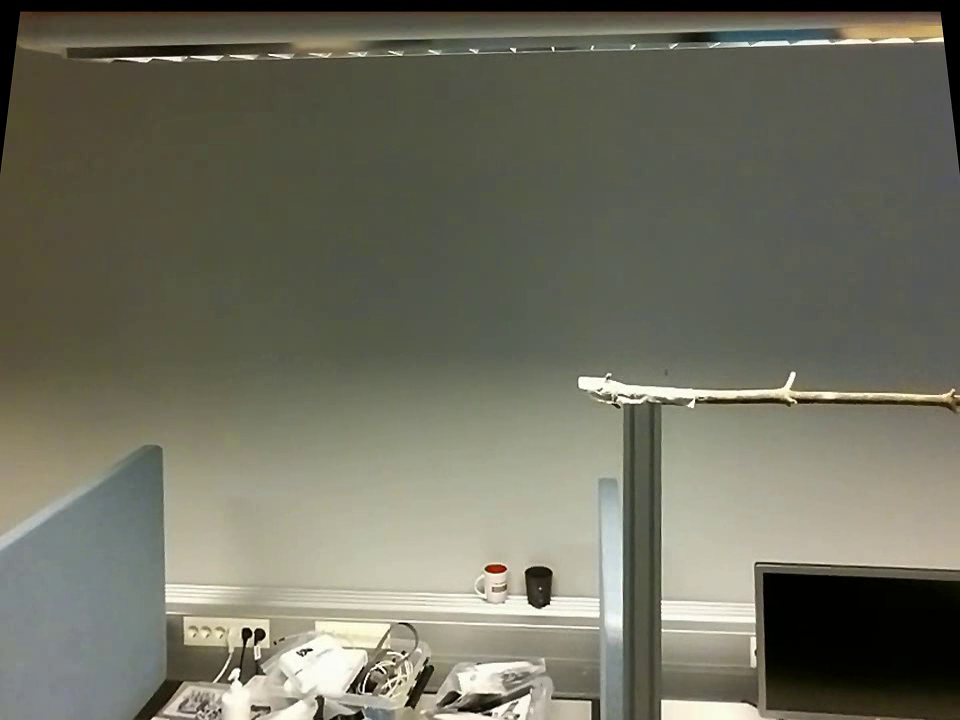aluminum_frame: (615, 404, 664, 718)
branch: (694, 358, 959, 425)
